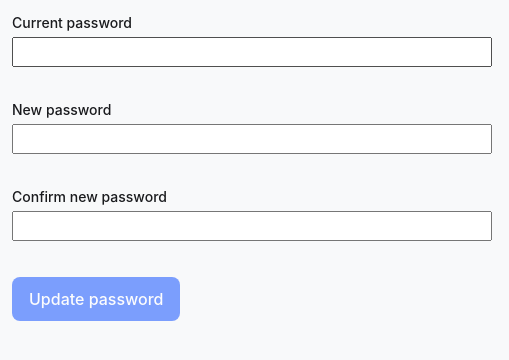
Test case: ChangePasswordForm › disables submit and shows mismatch advisory when passwords do not match
In the password field labelled "Current password": (252, 52) [12,37,492,67], type "OldPass1"
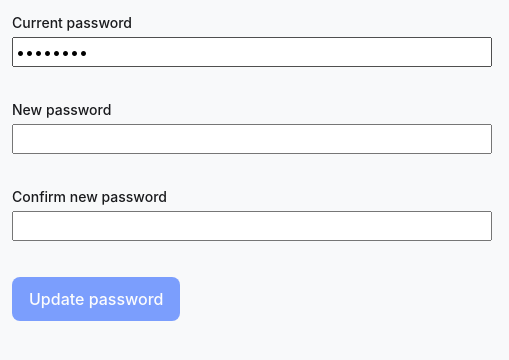
In the password field labelled "New password": (252, 139) [12,124,492,154], type "NewPass1"
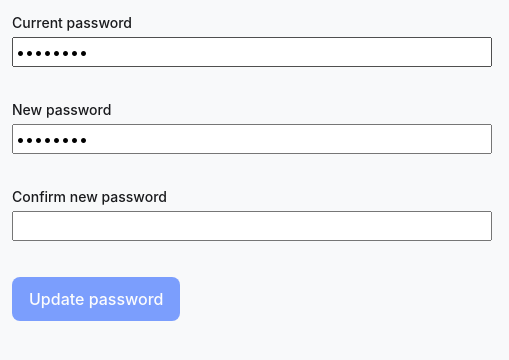
In the password field labelled "Confirm new password": (252, 226) [12,211,492,241], type "Different1"
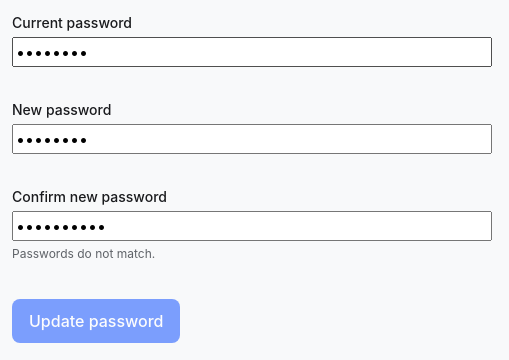
Expected: the button "Update password" is disabled, [12,299,180,343]
Result: the text "Passwords do not match." is shown at [12,246,155,261]
